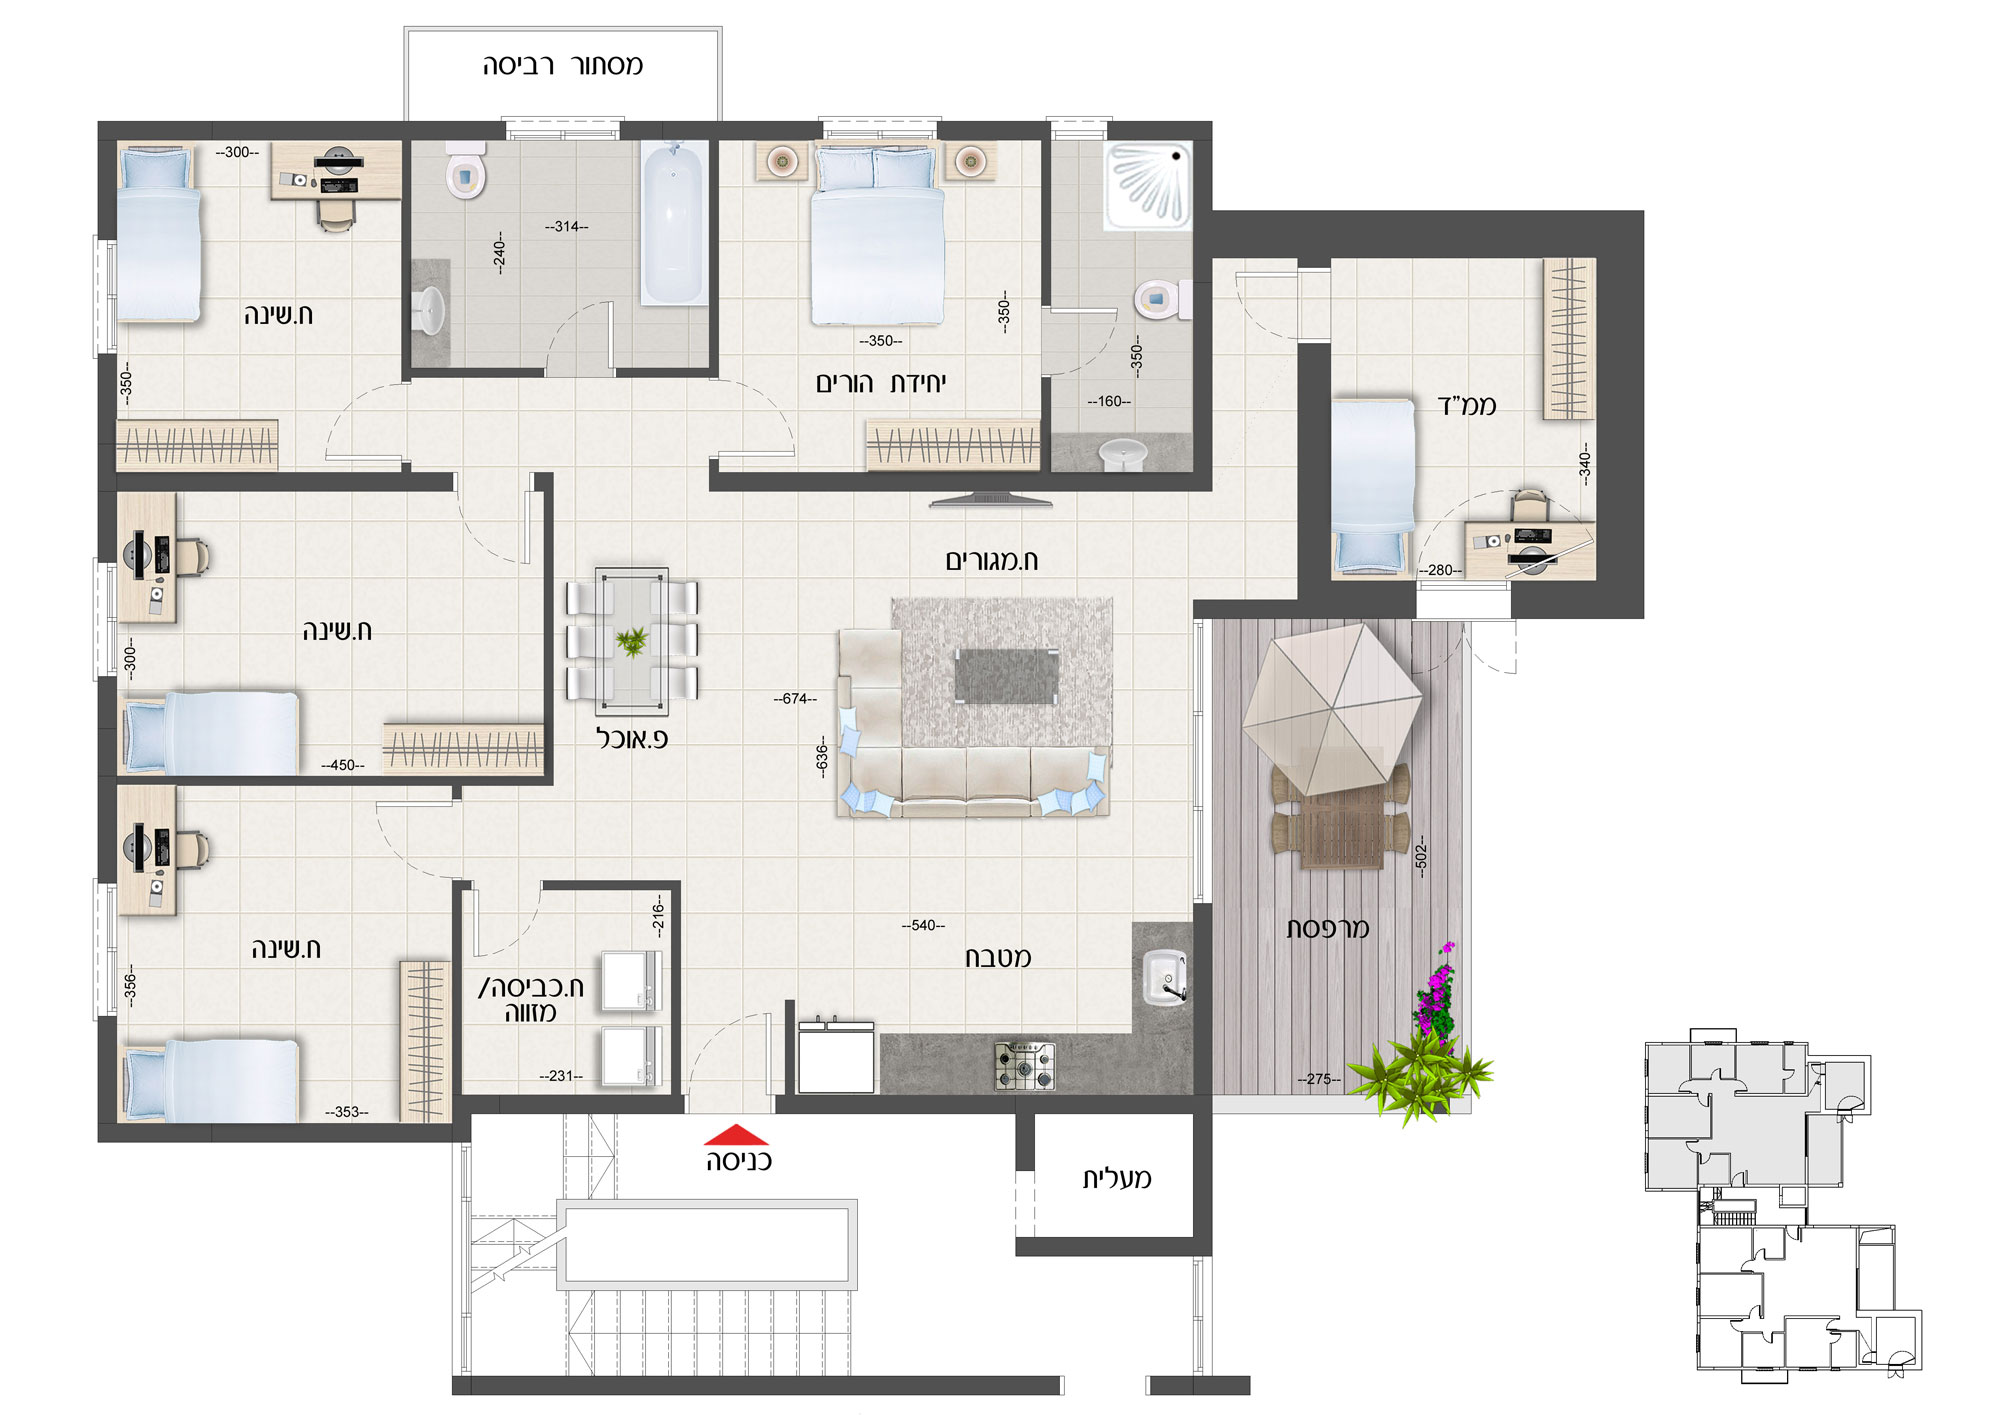door: (1406, 623, 1539, 686), (369, 793, 450, 888), (688, 1006, 781, 1086), (450, 501, 534, 580), (319, 381, 392, 466), (1222, 263, 1292, 349), (538, 296, 623, 364), (469, 900, 544, 965), (1783, 1230, 1807, 1242), (1885, 1372, 1908, 1383), (1746, 1300, 1763, 1312), (1760, 1332, 1775, 1345), (1787, 1064, 1796, 1083), (1832, 1332, 1845, 1345), (1737, 1257, 1747, 1273), (1712, 1064, 1724, 1077), (1675, 1077, 1685, 1092), (1758, 1245, 1769, 1254)
wall: (1597, 211, 1646, 619), (1213, 211, 1596, 257), (453, 1377, 974, 1395), (711, 473, 1211, 492), (1296, 341, 1331, 600), (100, 1124, 470, 1142), (1194, 119, 1213, 479), (115, 475, 453, 493), (100, 123, 404, 139), (1191, 597, 1417, 619), (119, 776, 557, 787), (96, 678, 119, 879), (453, 1096, 685, 1116), (969, 1096, 1211, 1113), (544, 472, 556, 789), (1191, 1093, 1214, 1256), (1015, 1237, 1216, 1256), (622, 123, 819, 141), (1193, 904, 1211, 1096), (776, 1096, 969, 1115), (100, 355, 116, 562), (669, 881, 681, 1101), (403, 123, 412, 383), (96, 123, 116, 242), (96, 1017, 115, 1144), (453, 879, 462, 1124), (939, 121, 1047, 139), (939, 123, 1046, 139), (1041, 123, 1051, 306), (1041, 378, 1054, 479)
window: (98, 884, 119, 1015), (825, 115, 937, 139), (508, 116, 616, 139), (96, 240, 116, 351), (95, 565, 115, 672), (1191, 717, 1213, 810), (1191, 619, 1211, 715), (459, 1201, 473, 1315), (1191, 1319, 1214, 1375), (1191, 1256, 1211, 1317), (461, 1315, 472, 1377), (461, 1144, 470, 1199)
